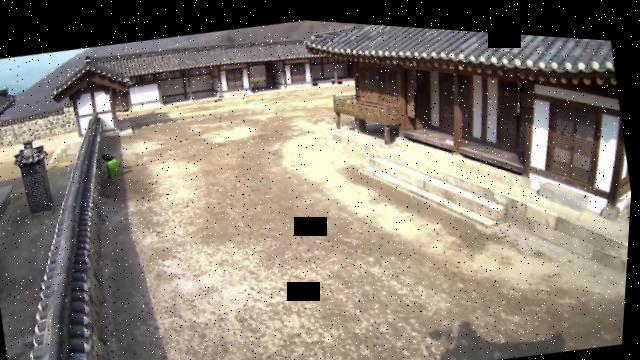bag: (108, 157, 125, 178)
